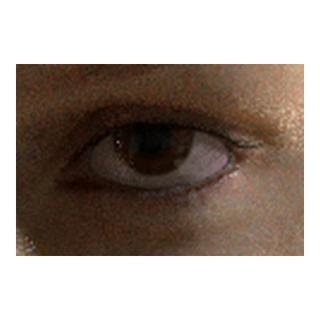pupil: (134, 116, 170, 153)
